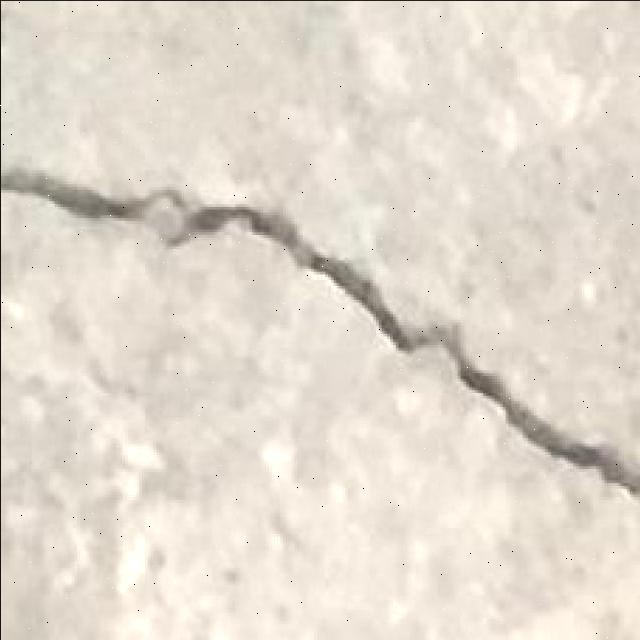crack: (2, 163, 638, 498), (3, 168, 168, 232), (315, 188, 392, 262), (326, 245, 397, 313)
